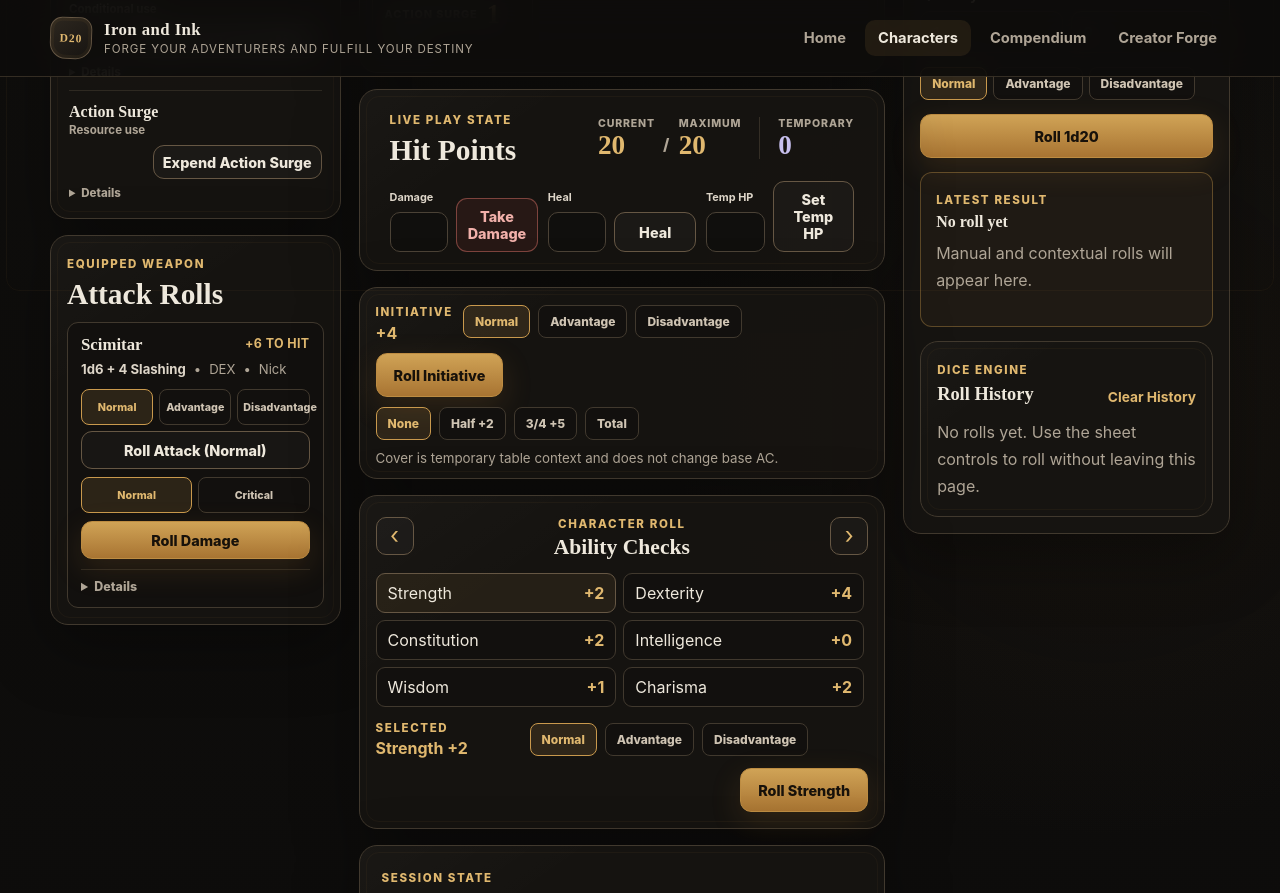
Test: PLAY dashboard Attack Rolls › H/I/J reuses normal, advantage, and disadvantage weapon attack execution with Latest Result and Roll History
(page scrolled)
expect the element "Attack Rolls" is shown: met, box [50,235,340,625]
Click the button "Roll Attack (Normal)": click(195, 450) [81,431,310,469]
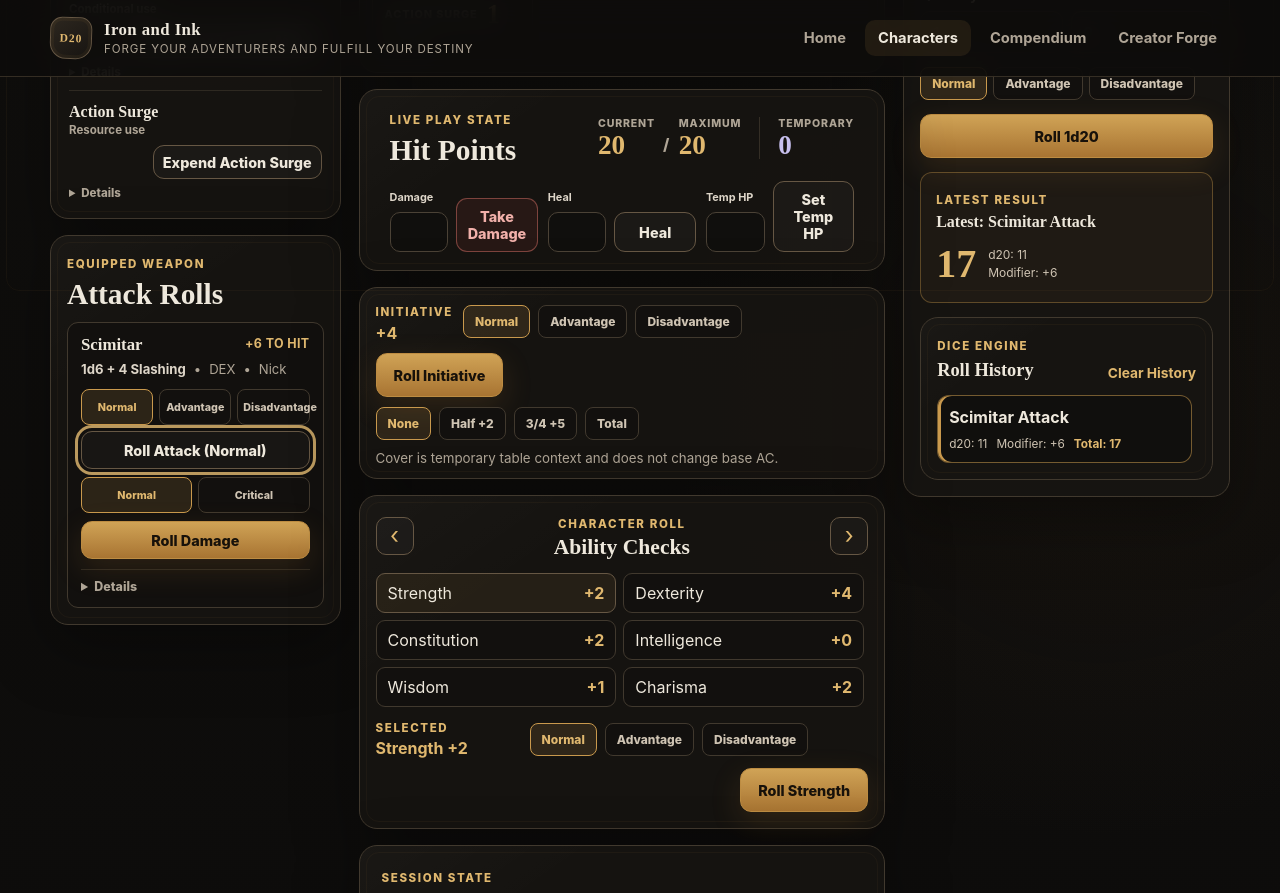
expect the element "Roll History" is shown: met, box [920,317,1213,480]
expect the heading "Latest: Scimitar Attack" is shown: met, box [936,213,1096,230]
expect the text "Scimitar Attack" is shown: met, box [949,407,1069,427]
Click the button "Advantage" below "1d6 + 4 Slashing": click(195, 407) [159,389,231,425]
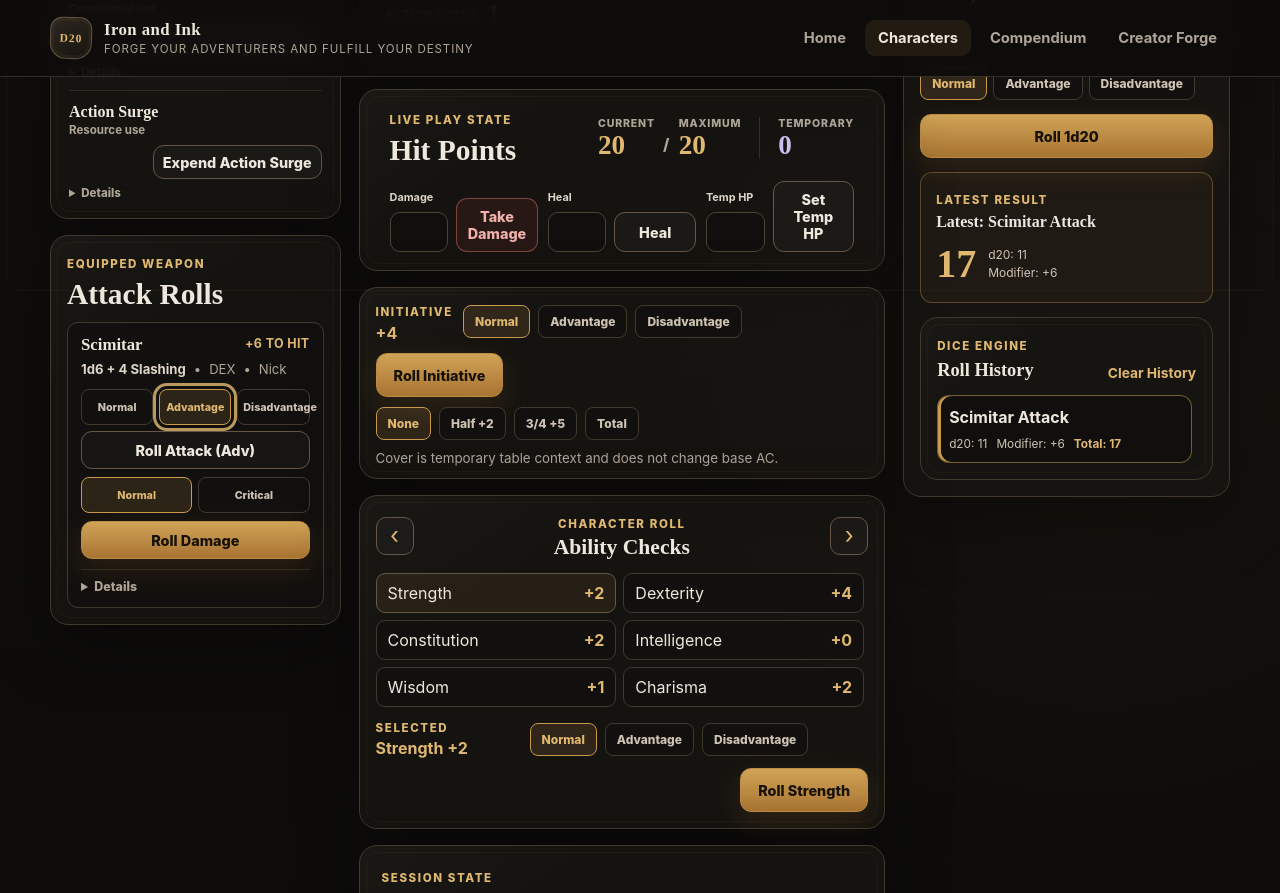
Click the button "Roll Attack (Adv)": click(195, 450) [81,431,310,469]
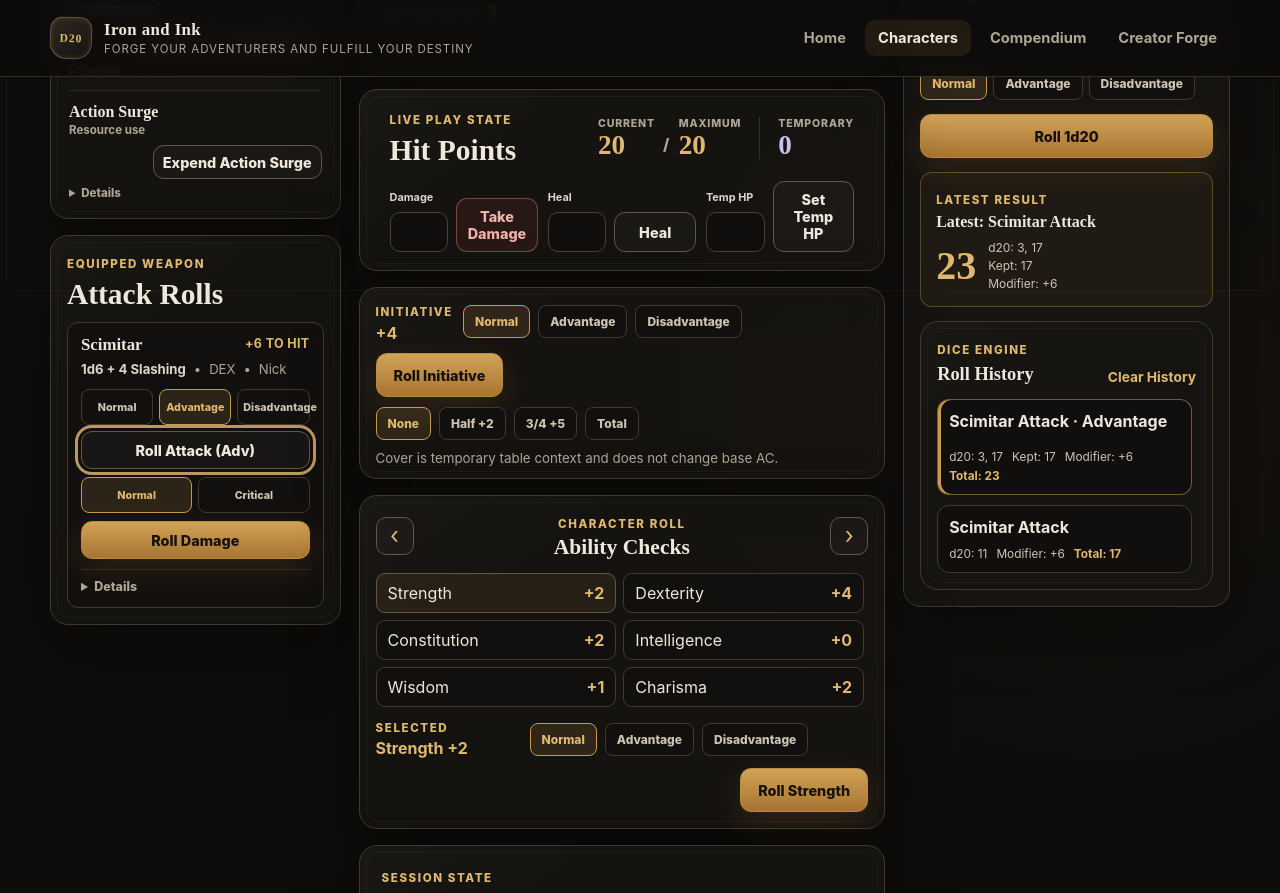
expect the element "Latest: Scimitar Attack" is shown: met, box [920,172,1213,307]
expect the text "Kept: 17" below "Latest: Scimitar Attack" is shown: met, box [988,258,1032,273]
expect the text "Scimitar Attack · Advantage" is shown: met, box [949,411,1167,431]
Click the button "Disadvantage" below "1d6 + 4 Slashing": click(273, 407) [237,389,310,425]
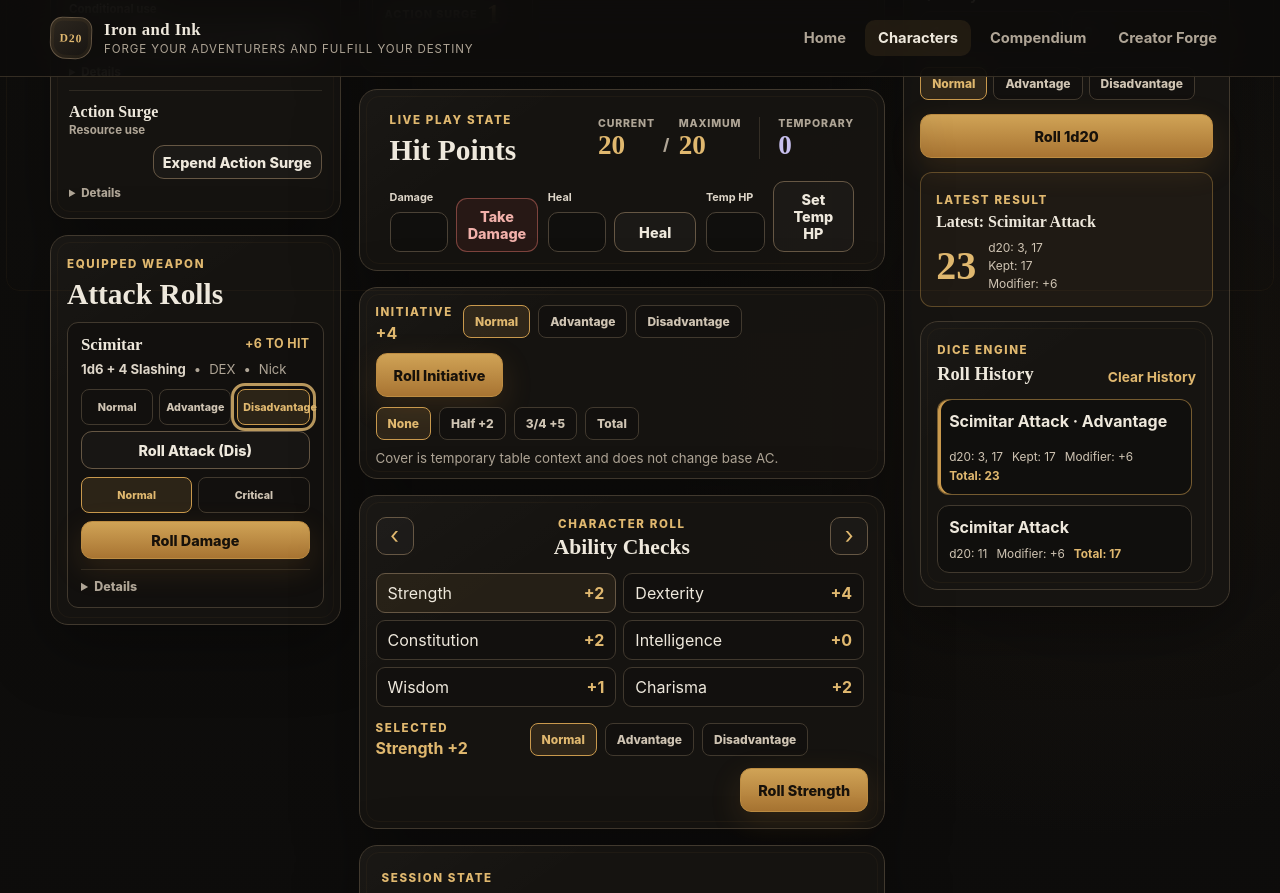
Click the button "Roll Attack (Dis)": click(195, 450) [81,431,310,469]
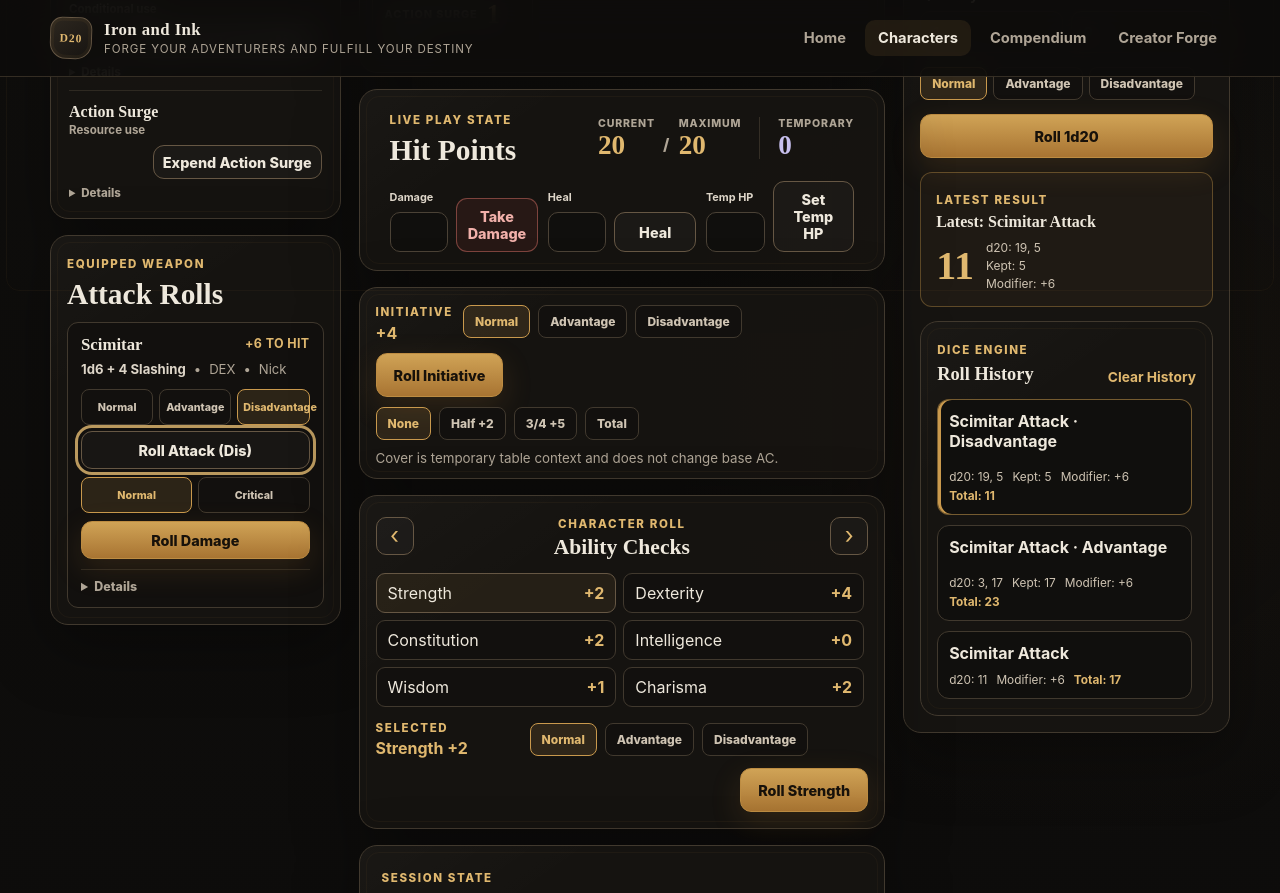
expect the element "Latest: Scimitar Attack" is shown: met, box [920,172,1213,307]
expect the text "Kept: 5" below "Latest: Scimitar Attack" is shown: met, box [986,258,1026,273]
expect the text "Scimitar Attack · Disadvantage" is shown: met, box [949,411,1078,451]
